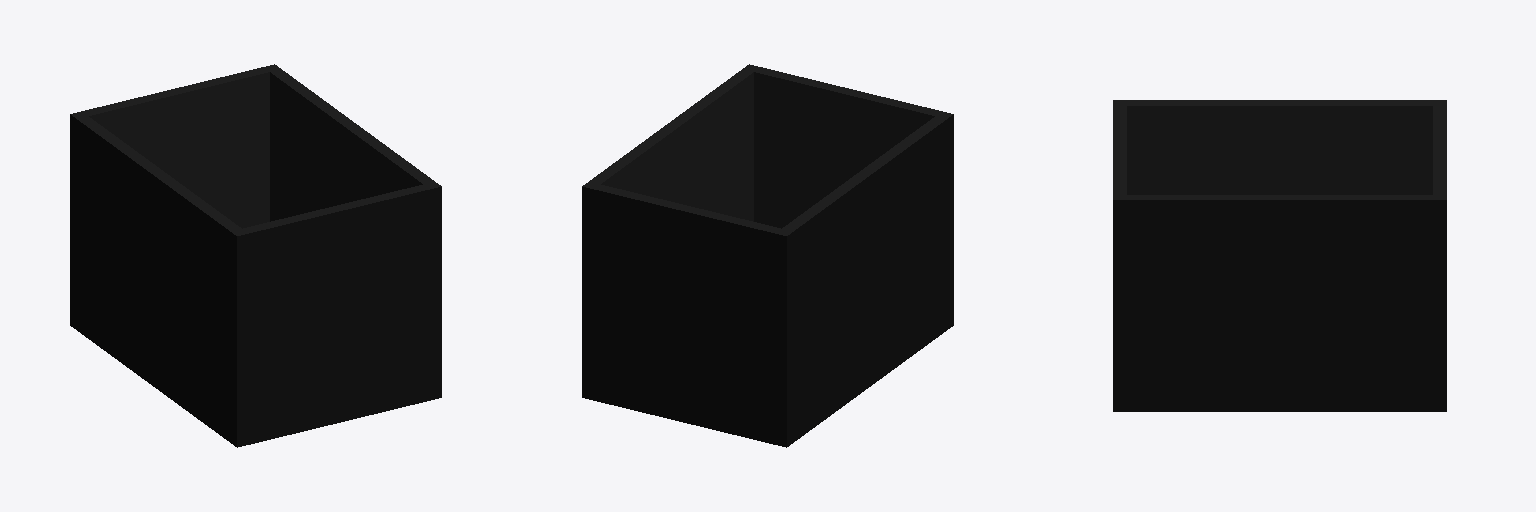
File: Case.obj
3 views of the same model, side by side, from view 1: azimuth 30°, elevation 25°; view 2: azimuth 150°, elevation 25°; view 3: azimuth 270°, elevation 25° (orthographic).
Visible parts, largest first — view 1: Case; view 2: Case; view 3: Case.
Part boxes in pixels (bbox=[...]): Case: bbox=[70, 64, 441, 447]; Case: bbox=[582, 64, 953, 447]; Case: bbox=[1113, 100, 1446, 411].
Size of the model in its own units: 43.6 by 43 by 61.6.